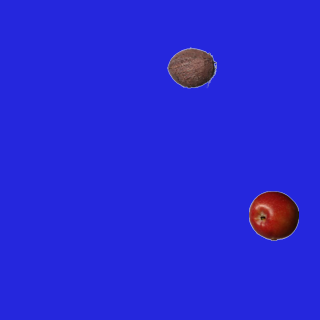Apple Braeburn: (248, 190, 298, 240)
Cocos: (166, 42, 216, 92)
